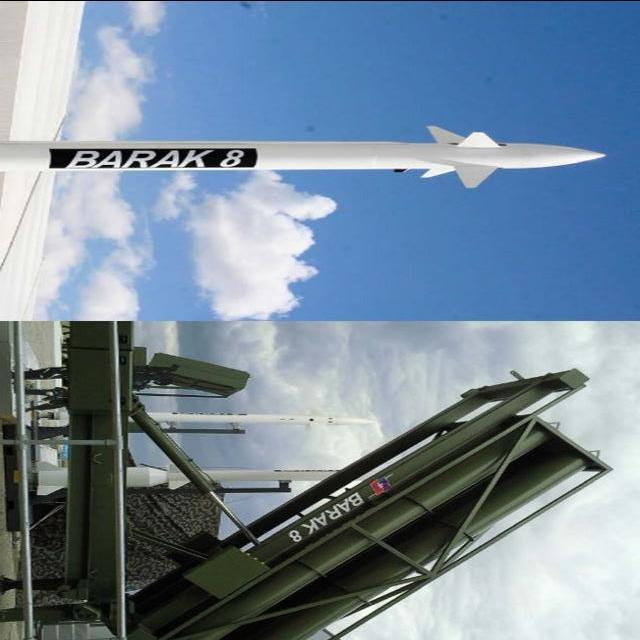missile: (4, 125, 608, 188)
